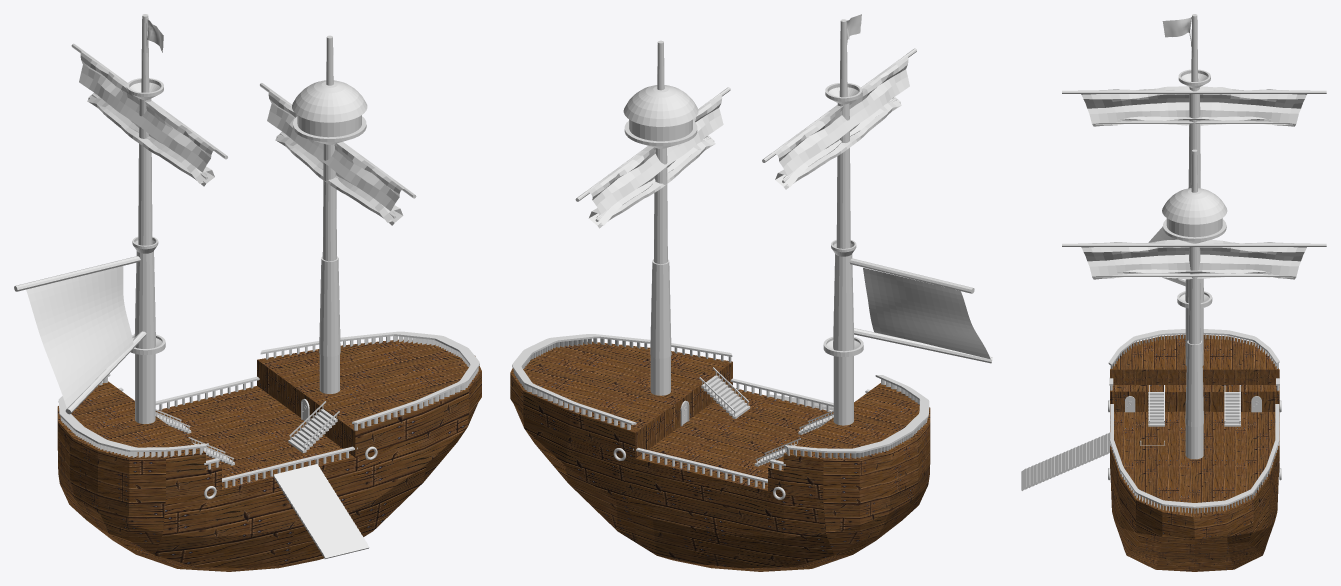
Rendered from 1ksunny.fbx.
3 renders of one model, left to right at view 1: azimuth 30°, elevation 25°; view 2: azimuth 150°, elevation 25°; view 3: azimuth 270°, elevation 25°, orthographic. The views are drawn at different scales.
Parts seen in each view (by area): view 1: Cube, Plane.003, Cylinder, Plane.001, Plane.002, Cylinder.001, Cube.013, Cylinder.002, Cube.008, Cube.010, Cube.009, Cube.012 (+3 smaller); view 2: Cube, Cylinder, Plane.003, Plane.001, Plane.002, Cylinder.001, Cylinder.002, Cube.008, Cube.010, Cube.009, Cube.012, Cylinder.008 (+2 smaller); view 3: Cube, Plane.001, Plane.002, Cylinder.001, Cylinder.002, Cylinder, Cube.013, Cube.008, Cube.010, Cube.011, Cylinder.003, Cylinder.004 (+3 smaller).
Part boxes in pixels (x1=…): Cube: x1=57, y1=339, x2=481, y2=571; Plane.003: x1=26, y1=266, x2=133, y2=407; Cylinder: x1=126, y1=14, x2=165, y2=423; Plane.001: x1=79, y1=50, x2=217, y2=186; Plane.002: x1=267, y1=89, x2=406, y2=225; Cylinder.001: x1=319, y1=35, x2=340, y2=393; Cube.013: x1=273, y1=464, x2=369, y2=558; Cylinder.002: x1=292, y1=80, x2=367, y2=144; Cube.008: x1=260, y1=331, x2=479, y2=430; Cube.010: x1=58, y1=374, x2=208, y2=457; Cube.009: x1=155, y1=376, x2=357, y2=487; Cube.012: x1=288, y1=401, x2=339, y2=452; Cube: x1=510, y1=341, x2=930, y2=571; Cylinder: x1=823, y1=19, x2=863, y2=425; Plane.003: x1=863, y1=268, x2=990, y2=359; Plane.001: x1=772, y1=55, x2=909, y2=189; Plane.002: x1=586, y1=93, x2=723, y2=228; Cylinder.001: x1=650, y1=40, x2=671, y2=395; Cylinder.002: x1=623, y1=85, x2=698, y2=148; Cube.008: x1=512, y1=334, x2=732, y2=429; Cube.010: x1=784, y1=375, x2=929, y2=458; Cube.009: x1=633, y1=378, x2=833, y2=488; Cube.012: x1=699, y1=367, x2=750, y2=418; Cylinder.008: x1=854, y1=328, x2=992, y2=363; Cube: x1=1110, y1=334, x2=1279, y2=571; Plane.001: x1=1078, y1=86, x2=1309, y2=126; Plane.002: x1=1078, y1=239, x2=1310, y2=279; Cylinder.001: x1=1185, y1=149, x2=1203, y2=459; Cylinder.002: x1=1162, y1=188, x2=1227, y2=243; Cylinder: x1=1177, y1=14, x2=1212, y2=365; Cube.013: x1=1021, y1=432, x2=1110, y2=490; Cube.008: x1=1109, y1=438, x2=1279, y2=513; Cube.010: x1=1108, y1=329, x2=1279, y2=368; Cube.011: x1=1148, y1=385, x2=1240, y2=426; Cylinder.003: x1=1062, y1=90, x2=1326, y2=93; Cylinder.004: x1=1062, y1=243, x2=1326, y2=246.
Size of the model in its own units: 5145 by 6064 by 3426.
